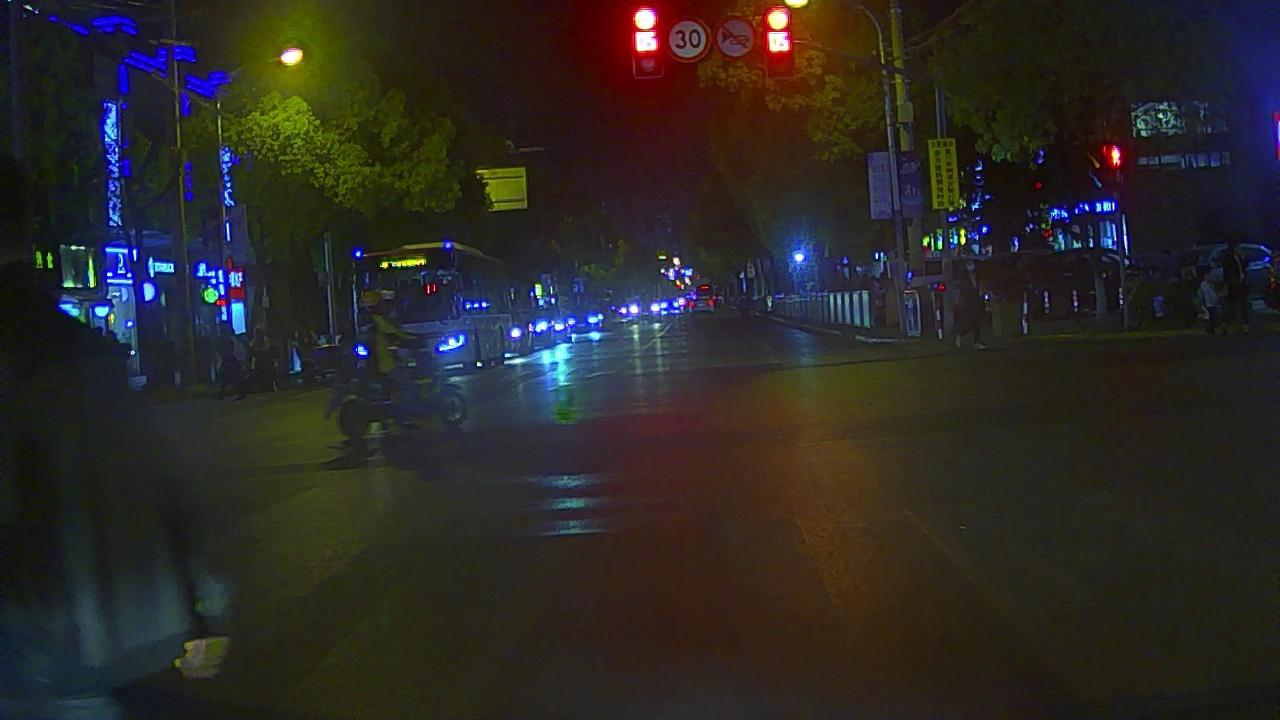traffic_light: (629, 6, 662, 76), (763, 5, 794, 77)
